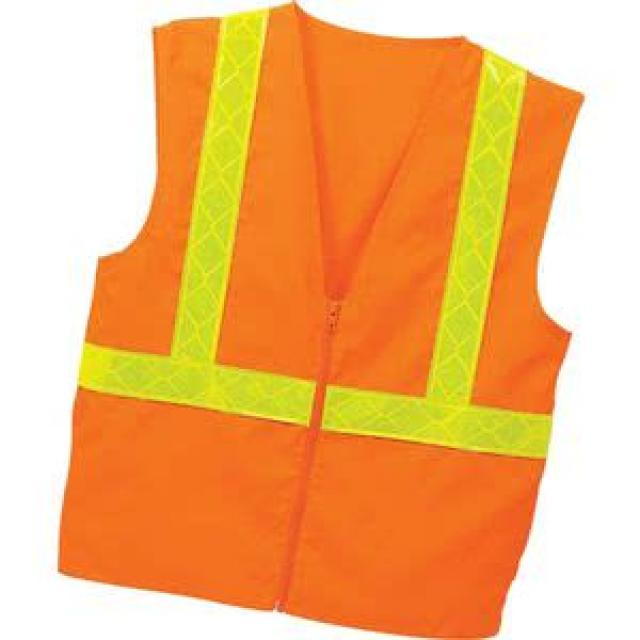Reflective-Jacket: (19, 0, 606, 640)
